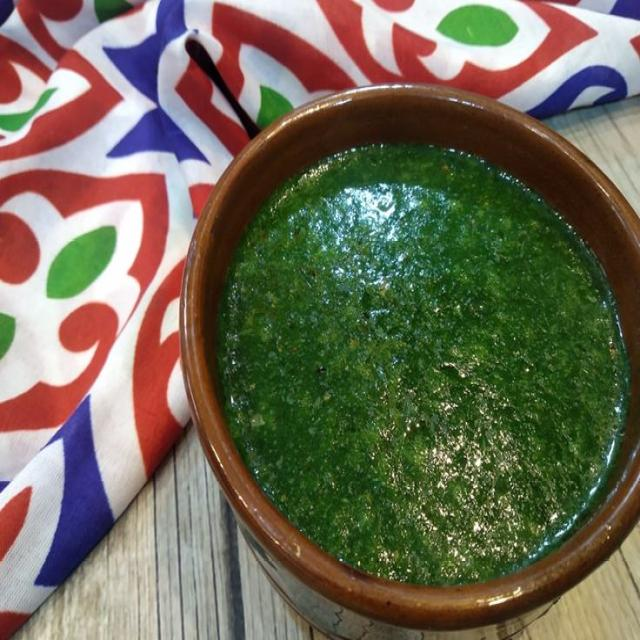Molokhya: (163, 83, 640, 640)
